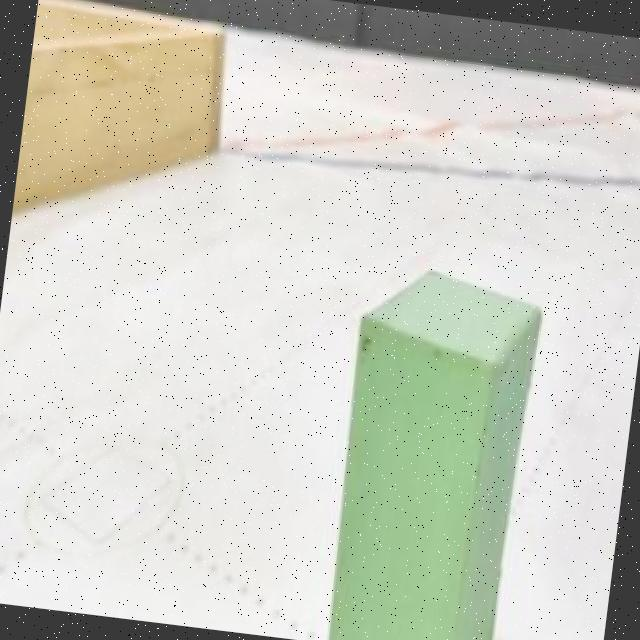greenbox: (316, 255, 550, 640)
